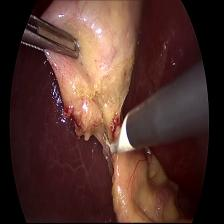Grasper: (18, 13, 83, 60)
Hook: (101, 107, 139, 164)
